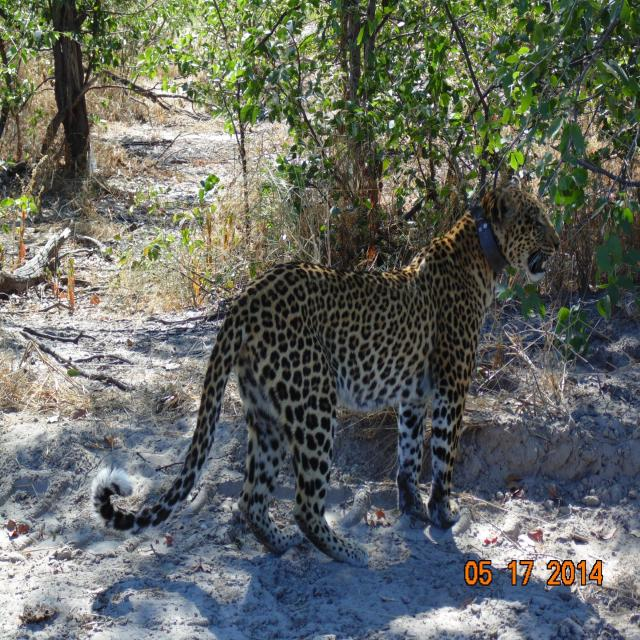Leopard: (101, 172, 546, 560)
